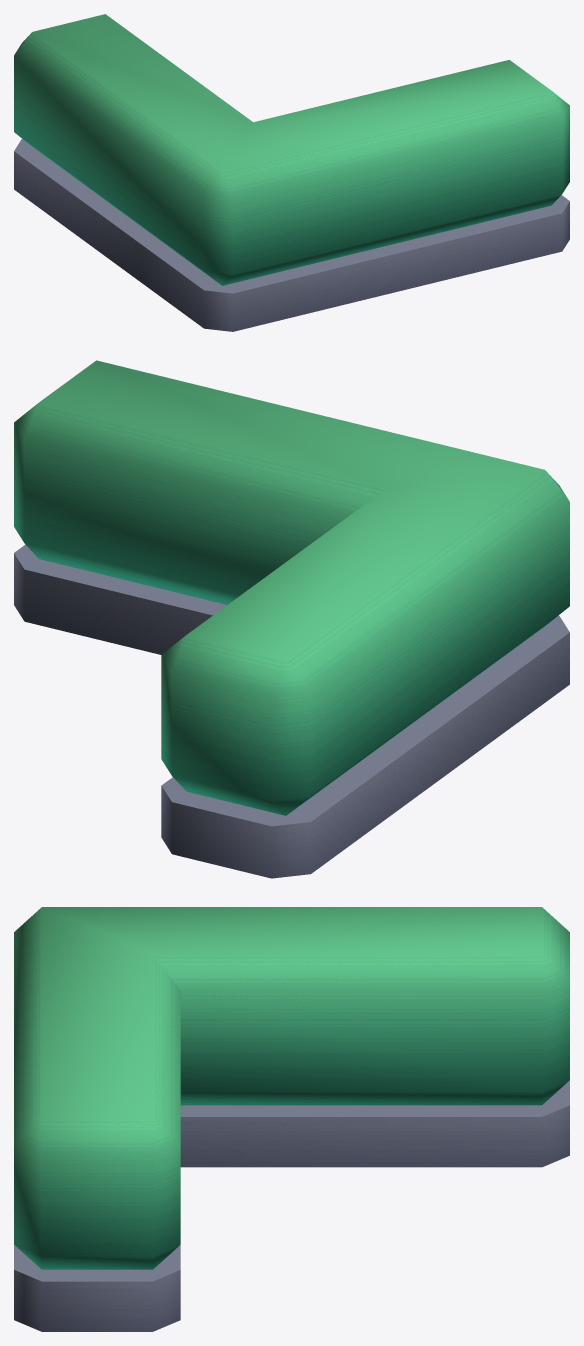
Rendered from hedge-corner.glb.
3 views of the same model, one above another, from view 1: azimuth 30°, elevation 25°; view 2: azimuth 150°, elevation 25°; view 3: azimuth 270°, elevation 25° (orthographic). The views are drawn at different scales.
Visible parts, largest first — view 1: hedge-corner; view 2: hedge-corner; view 3: hedge-corner.
Part boxes in pixels (x1,y1,x2,y2): hedge-corner: (14, 14, 569, 331); hedge-corner: (14, 360, 569, 878); hedge-corner: (14, 907, 569, 1331).
Bounding box in the file's own units: 1 × 0.4 × 1.
1 material, 1 textured.
